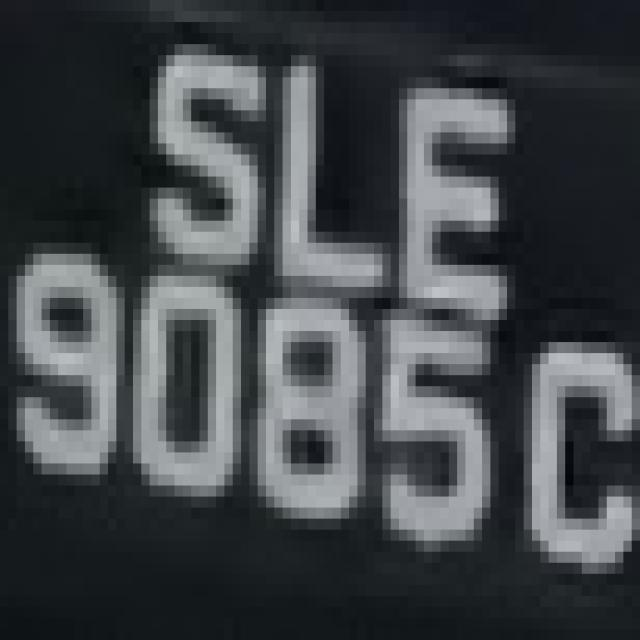0: (116, 232, 258, 518)
5: (374, 254, 482, 574)
8: (258, 276, 374, 541)
9: (17, 187, 116, 518)
C: (515, 298, 640, 596)
E: (382, 55, 532, 331)
L: (249, 55, 391, 309)
S: (125, 33, 266, 287)
